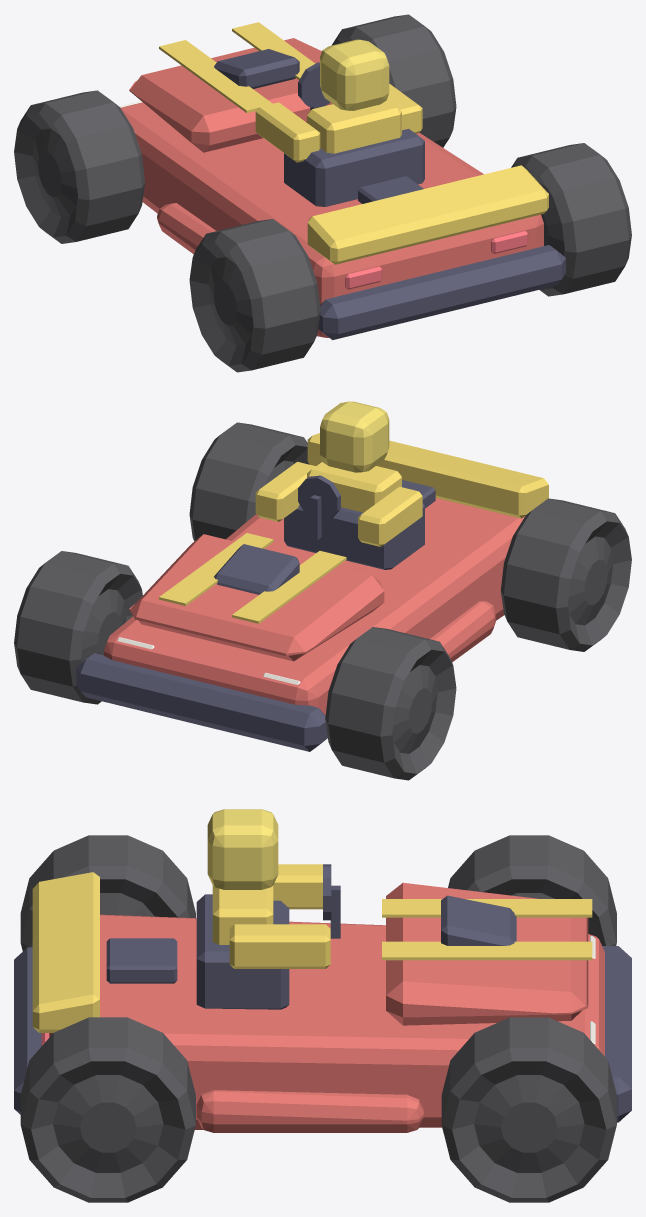
File: Kart_Muscle.fbx
3 views of the same model, one above another, from view 1: azimuth 30°, elevation 25°; view 2: azimuth 150°, elevation 25°; view 3: azimuth 270°, elevation 25° (orthographic). The views are drawn at different scales.
Visible parts, largest first — view 1: Body, Trim, Accent, WheelRL, WheelFL, WheelRR, Driver, WheelFR, Head, Taillights, WeaponMount; view 2: Body, Trim, WheelRL, WheelFL, WheelFR, Accent, WheelRR, Driver, Head; view 3: Body, WheelFR, WheelRR, Trim, Accent, Driver, WheelRL, WheelFL, Head, WeaponMount.
Boxes of the visible parts, x1,y1,x2,y2 form: Body: [120, 38, 543, 337]; Trim: [214, 49, 565, 340]; Accent: [159, 22, 548, 264]; WheelRL: [189, 219, 320, 372]; WheelFL: [14, 90, 145, 243]; WheelRR: [511, 143, 631, 296]; Driver: [255, 84, 422, 162]; WheelFR: [331, 14, 456, 147]; Head: [320, 39, 389, 110]; Taillights: [345, 230, 528, 289]; WeaponMount: [358, 176, 423, 203]; Body: [104, 498, 524, 715]; Trim: [76, 475, 424, 751]; WheelRL: [500, 498, 631, 651]; WheelFL: [325, 627, 456, 780]; WheelFR: [14, 551, 142, 704]; Accent: [159, 433, 548, 623]; WheelRR: [189, 422, 309, 540]; Driver: [255, 461, 422, 546]; Head: [320, 401, 389, 472]; Body: [49, 882, 604, 1132]; WheelFR: [441, 1017, 616, 1202]; WheelRR: [20, 1017, 195, 1202]; Trim: [14, 864, 631, 1122]; Accent: [32, 872, 592, 1032]; Driver: [212, 864, 330, 968]; WheelRL: [20, 835, 195, 951]; WheelFL: [448, 835, 616, 945]; Head: [207, 809, 278, 889]; WeaponMount: [106, 938, 177, 983].
Bounding box in the file's own units: 311 × 183 × 367.
